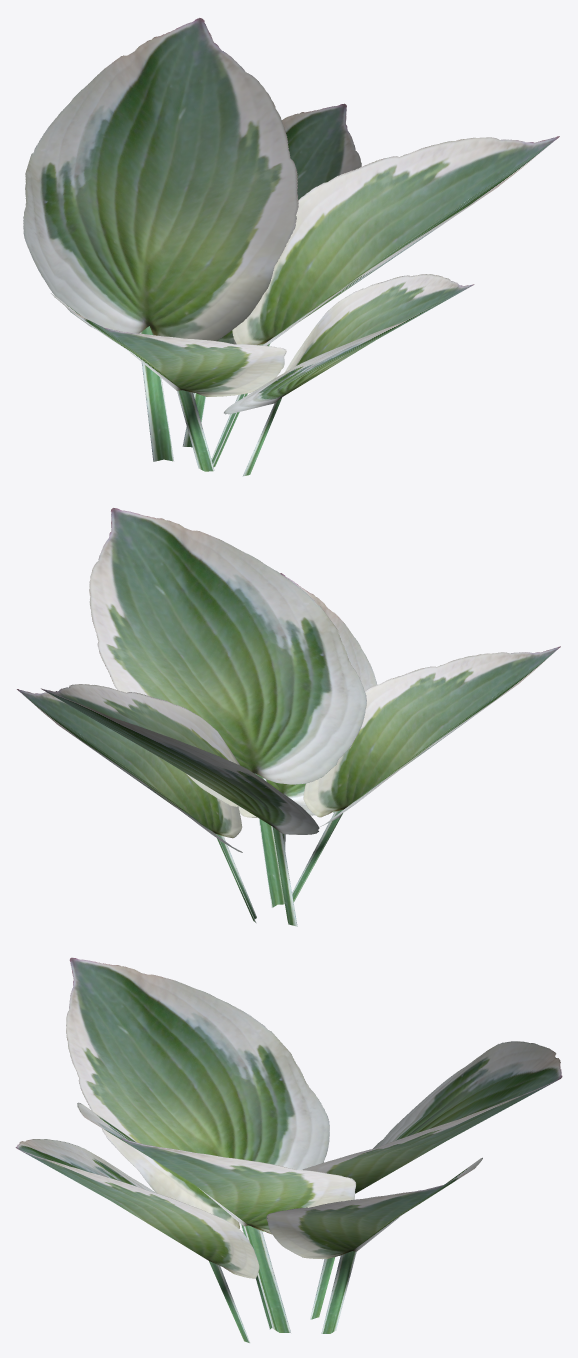
Rendered from plant_small_wg_04D.fbx.
The picture shows the model from 3 angles, top to bottom: view 1: azimuth 30°, elevation 25°; view 2: azimuth 150°, elevation 25°; view 3: azimuth 270°, elevation 25°; orthographic projection. The views are drawn at different scales.
Parts seen in each view (by area): view 1: plant_small_wg_04D; view 2: plant_small_wg_04D; view 3: plant_small_wg_04D.
Part boxes in pixels (x1,y1,x2,y2): plant_small_wg_04D: [23, 18, 559, 476]; plant_small_wg_04D: [17, 508, 560, 926]; plant_small_wg_04D: [15, 957, 562, 1343].
Size of the model in its own units: 114 by 72.88 by 111.
